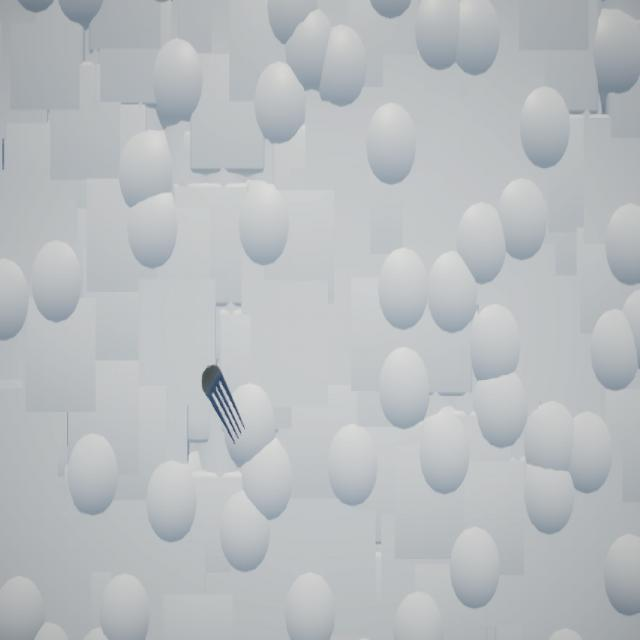top_folk: (203, 365, 246, 445)
